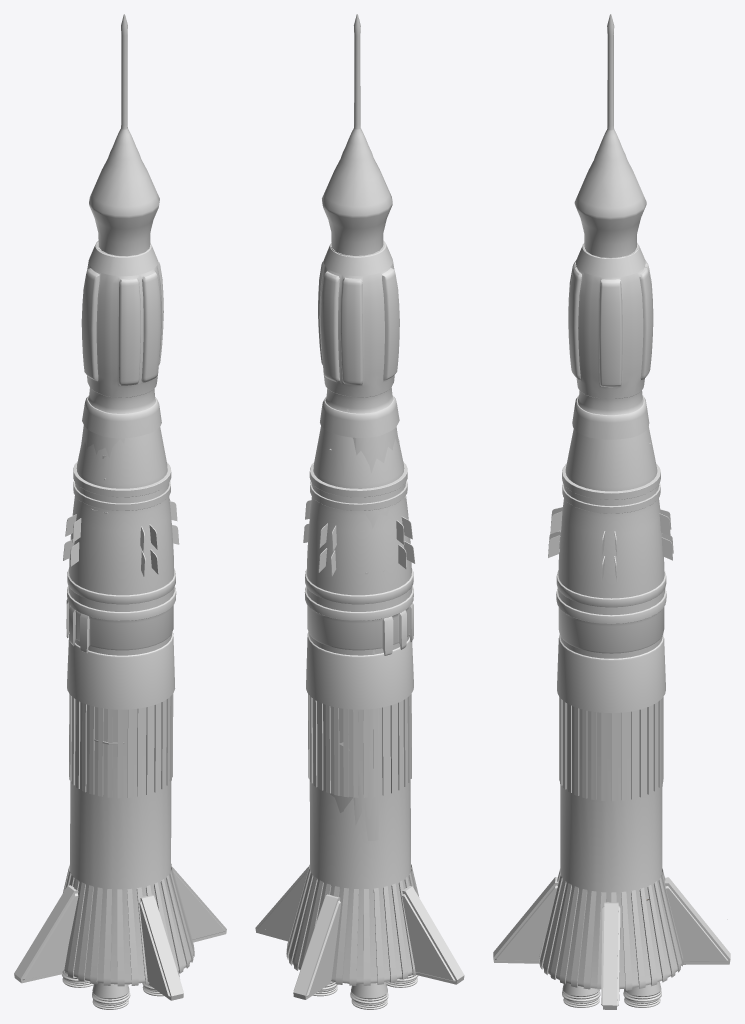
Rendered from Vaisseau_Accessoire.fbx.
3 views of the same model, side by side, from view 1: azimuth 30°, elevation 25°; view 2: azimuth 150°, elevation 25°; view 3: azimuth 270°, elevation 25° (orthographic).
Parts seen in each view (by area): view 1: Cylinder.049, Cube.017, Cylinder.050, Cylinder.075, Cube.029; view 2: Cylinder.049, Cube.017, Cylinder.050, Cylinder.075, Cube.029, Cylinder.086; view 3: Cylinder.049, Cube.017, Cylinder.050, Cylinder.075.
Part boxes in pixels (x1=…): Cylinder.049: x1=14, y1=694, x2=226, y2=1009; Cube.017: x1=63, y1=427, x2=179, y2=709; Cylinder.050: x1=81, y1=240, x2=163, y2=438; Cylinder.075: x1=89, y1=14, x2=159, y2=256; Cube.029: x1=74, y1=425, x2=124, y2=515; Cylinder.049: x1=255, y1=694, x2=464, y2=1009; Cube.017: x1=303, y1=426, x2=415, y2=709; Cylinder.050: x1=318, y1=240, x2=399, y2=437; Cylinder.075: x1=322, y1=14, x2=392, y2=255; Cube.029: x1=329, y1=426, x2=398, y2=840; Cylinder.086: x1=317, y1=739, x2=353, y2=797; Cylinder.049: x1=493, y1=696, x2=730, y2=1009; Cube.017: x1=548, y1=426, x2=673, y2=713; Cylinder.050: x1=568, y1=242, x2=653, y2=439; Cylinder.075: x1=574, y1=14, x2=646, y2=258.
Size of the model in its own units: 3125 by 14186 by 3125.
